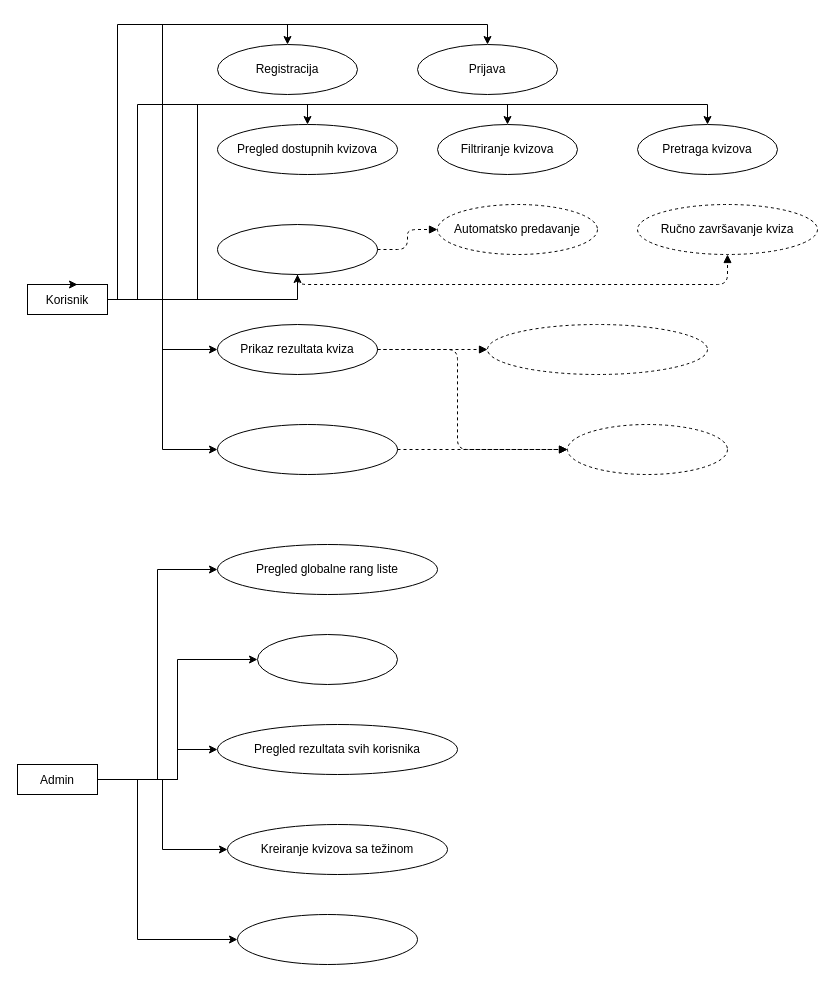
Some shapes in this 835 by 982 pixel diagram are drawn without their labels. The centre of each missing label's shape, as x and y in pixels:
CRUD kvizova: the point at 327,659
Grafikon napretka: the point at 647,449
Kategorizacija kvizova: the point at 327,939
Pregled tačnih odgovora i grešaka: the point at 597,349
Prikaz ličnih rezultata: the point at 307,449
Rešavanje kviza: the point at 297,249
